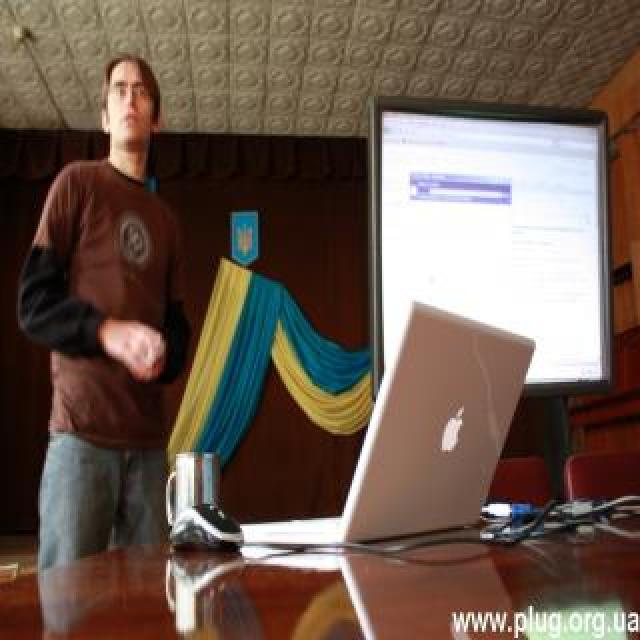laptop_computer: (238, 304, 551, 560)
